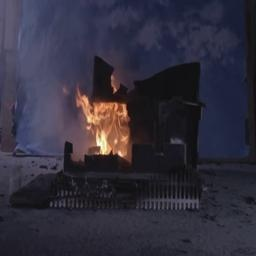fire: (73, 76, 141, 166)
